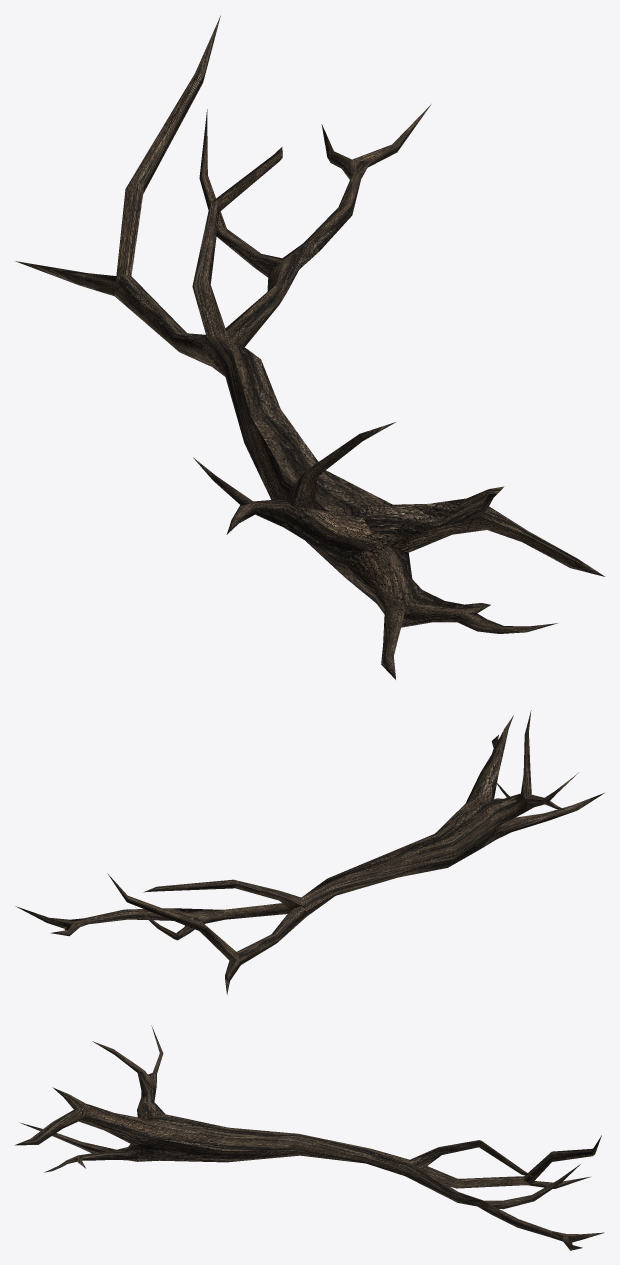
The model's file is fdec904.glb.
The picture shows the model from 3 angles, top to bottom: view 1: azimuth 30°, elevation 25°; view 2: azimuth 150°, elevation 25°; view 3: azimuth 270°, elevation 25°; orthographic projection. The views are drawn at different scales.
Parts seen in each view (by area): view 1: fdec904; view 2: fdec904; view 3: fdec904.
Boxes of the visible parts, x1,y1,x2,y2 form: fdec904: (15, 15, 605, 679); fdec904: (15, 710, 604, 994); fdec904: (15, 1025, 604, 1250).
Bounding box in the file's own units: 15.83 × 5.09 × 23.74.
Materials: 1 (1 with a texture image).
